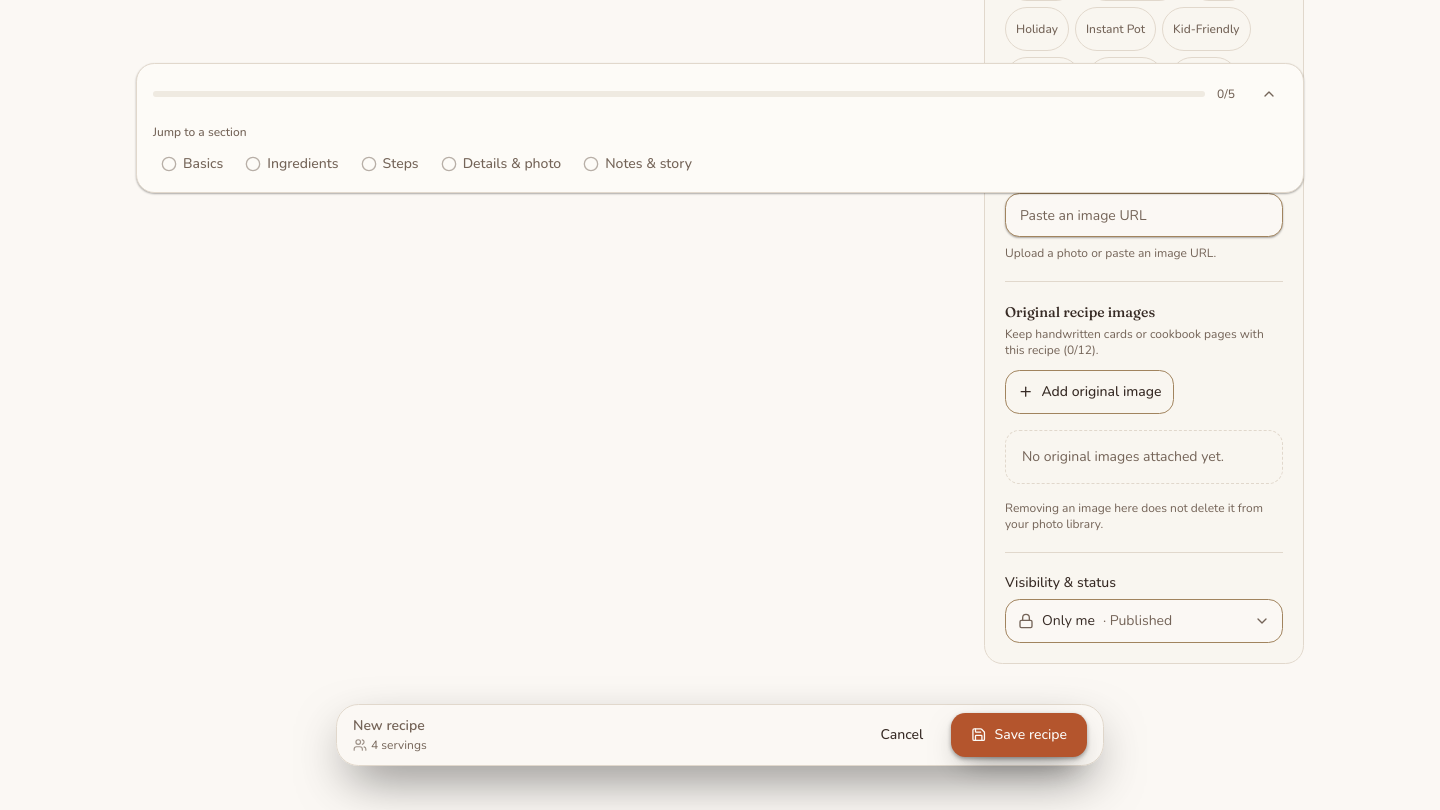
Test: RecipeEditor native selects (iOS zoom guard) › renders the default selects at >=16px on mobile and compact on desktop
The image size is (1440, 810).
(page scrolled)
What coordinates should you click on to do the following:
click the button with aria-label "visibility settings"
I would click on:
 (1144, 621)
Its box is [1005,599,1283,643].
(page scrolled)
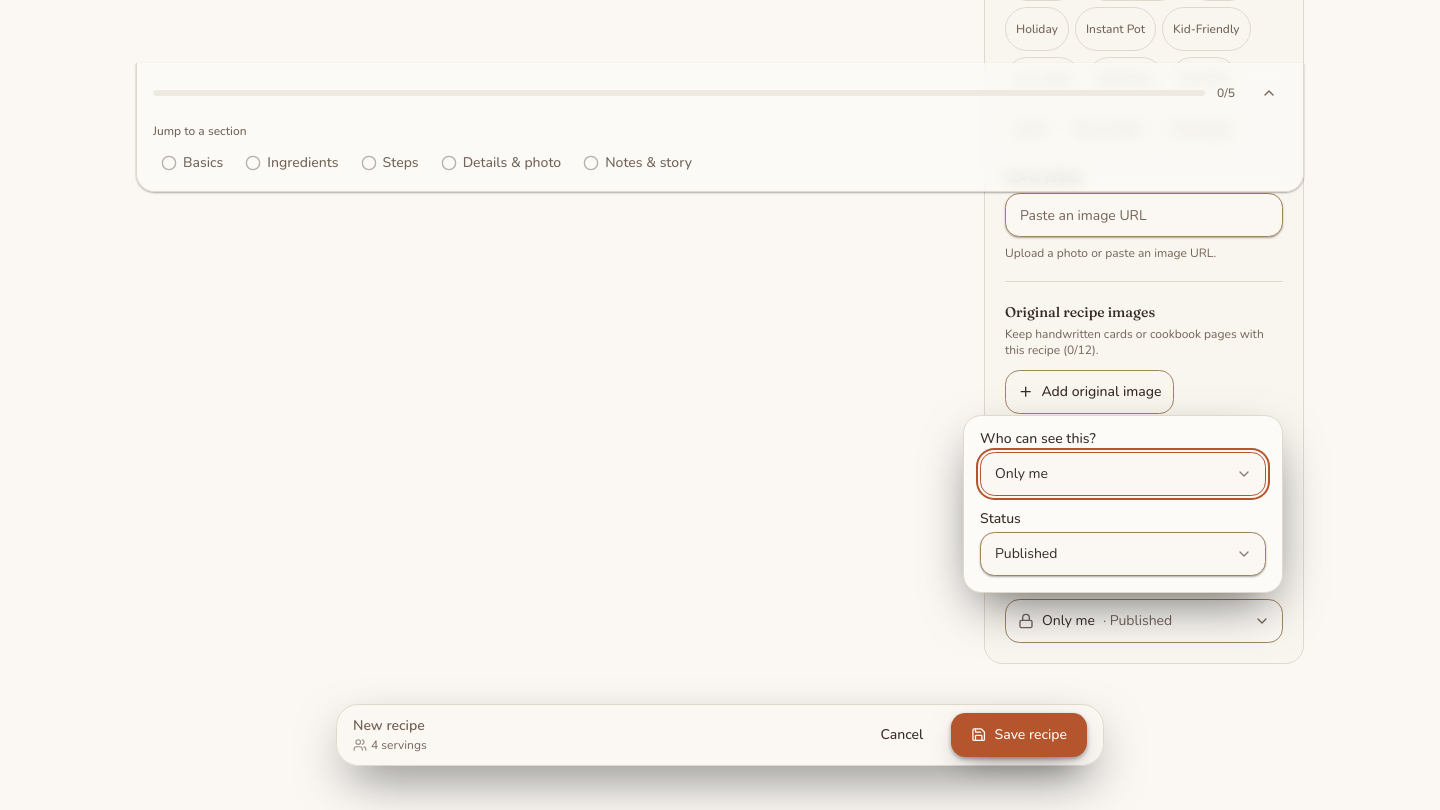
Expected: the dropdown labelled "Who can see this?" is shown, [980,452,1266,496]
